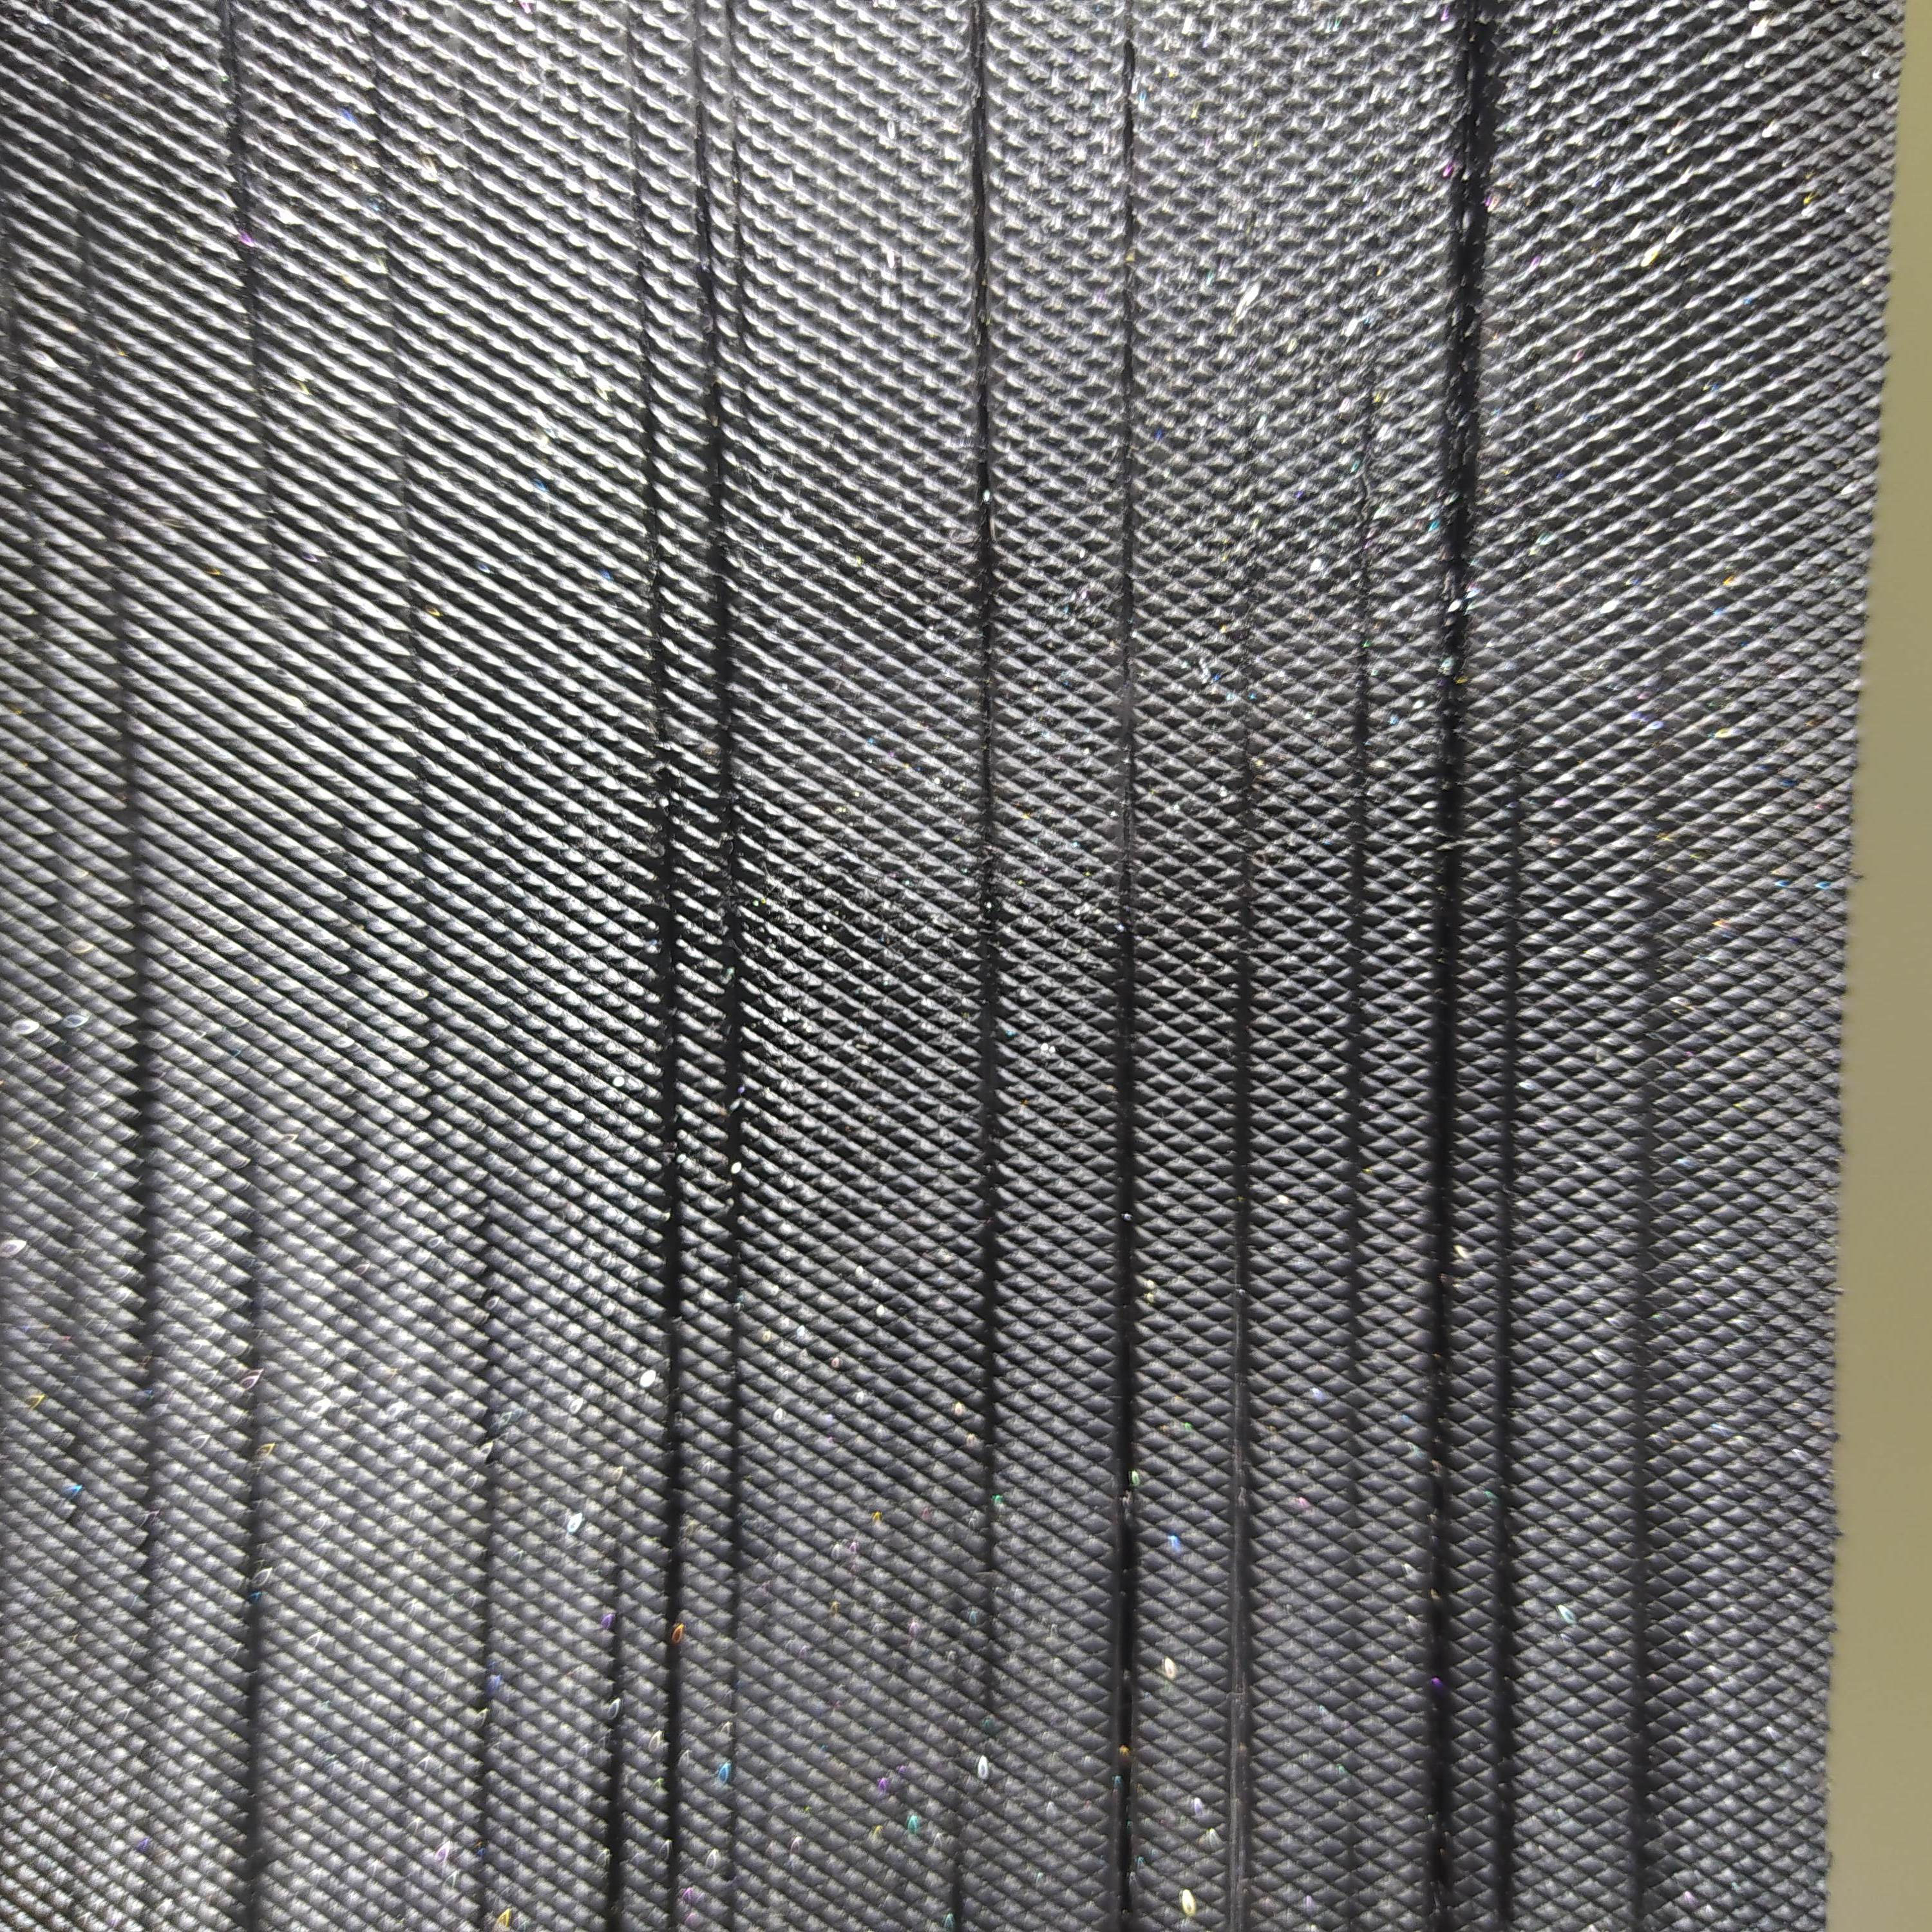friso grande: (1617, 1028, 1679, 1916), (232, 1092, 280, 1932), (1093, 1408, 1154, 1920), (1410, 1391, 1460, 1930), (959, 7, 1008, 469), (122, 1207, 166, 1683), (203, 4, 271, 315), (1217, 1442, 1258, 1925), (1486, 1378, 1522, 1932), (108, 918, 173, 1215), (1430, 435, 1484, 763), (1111, 7, 1150, 460), (1415, 1026, 1461, 1389), (594, 1504, 633, 1925), (621, 97, 663, 448), (966, 1380, 1008, 1721), (111, 632, 157, 936), (1221, 1104, 1261, 1444), (2, 451, 67, 660), (688, 184, 738, 437), (655, 977, 695, 1281), (1424, 754, 1468, 1031), (1488, 994, 1520, 1380), (660, 1545, 692, 1923), (717, 1309, 757, 1599), (1495, 740, 1539, 1005), (1447, 2, 1500, 221), (1111, 1062, 1143, 1414), (1440, 205, 1486, 446), (970, 1109, 1008, 1387), (71, 216, 115, 455), (44, 786, 87, 1019), (706, 559, 748, 770), (656, 1279, 688, 1555), (683, 0, 727, 195), (50, 1210, 94, 1398), (1108, 803, 1139, 1063), (1113, 538, 1145, 798), (1228, 867, 1261, 1113), (720, 1594, 745, 1927), (648, 522, 683, 752), (975, 842, 1003, 1123), (90, 455, 133, 642), (971, 589, 1000, 858), (727, 987, 750, 1318), (715, 763, 747, 987), (50, 1023, 85, 1224), (21, 649, 65, 796), (4, 272, 37, 455), (656, 755, 683, 980), (702, 439, 734, 563), (612, 0, 648, 104), (971, 451, 996, 594), (1116, 455, 1143, 545), (639, 444, 660, 533)
friso pequeno: (391, 433, 453, 1116), (1330, 1410, 1376, 1927), (469, 1267, 504, 1930), (1651, 453, 1683, 1021), (366, 134, 425, 430), (237, 320, 294, 614), (1339, 987, 1371, 1419), (1338, 674, 1378, 1001), (55, 1399, 92, 1757), (44, 0, 99, 228), (1235, 573, 1263, 876), (1350, 449, 1380, 681), (347, 0, 391, 136), (724, 0, 754, 189)
